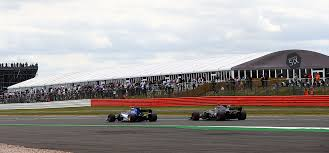FormulaOneCar: (186, 102, 250, 124), (102, 104, 160, 126)
